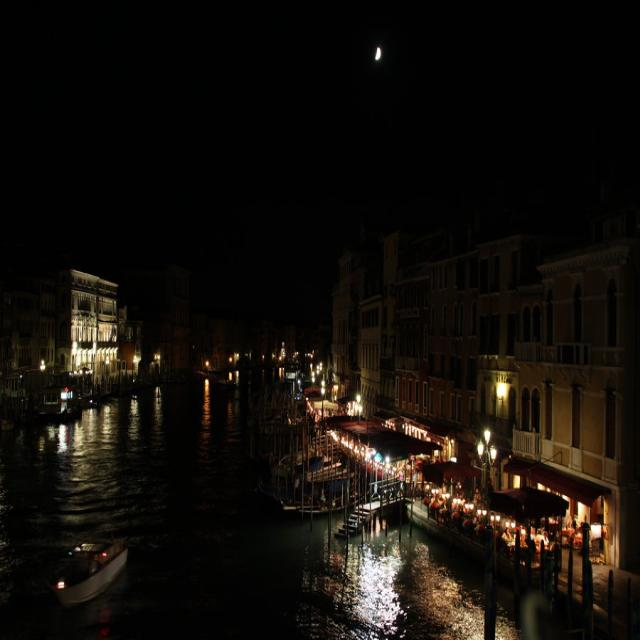Boat: (41, 503, 161, 632), (264, 417, 378, 516)
